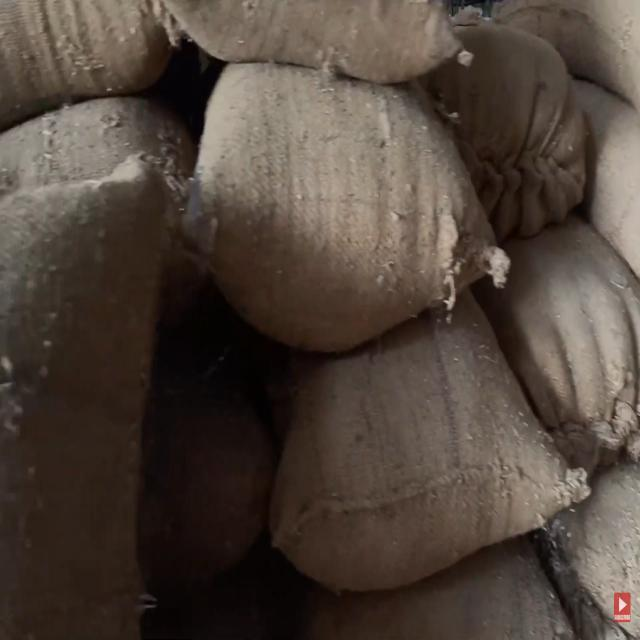gunny_bag: (270, 291, 586, 590), (190, 62, 506, 351), (0, 162, 164, 638), (475, 213, 640, 476), (423, 19, 587, 241), (167, 0, 460, 81)
